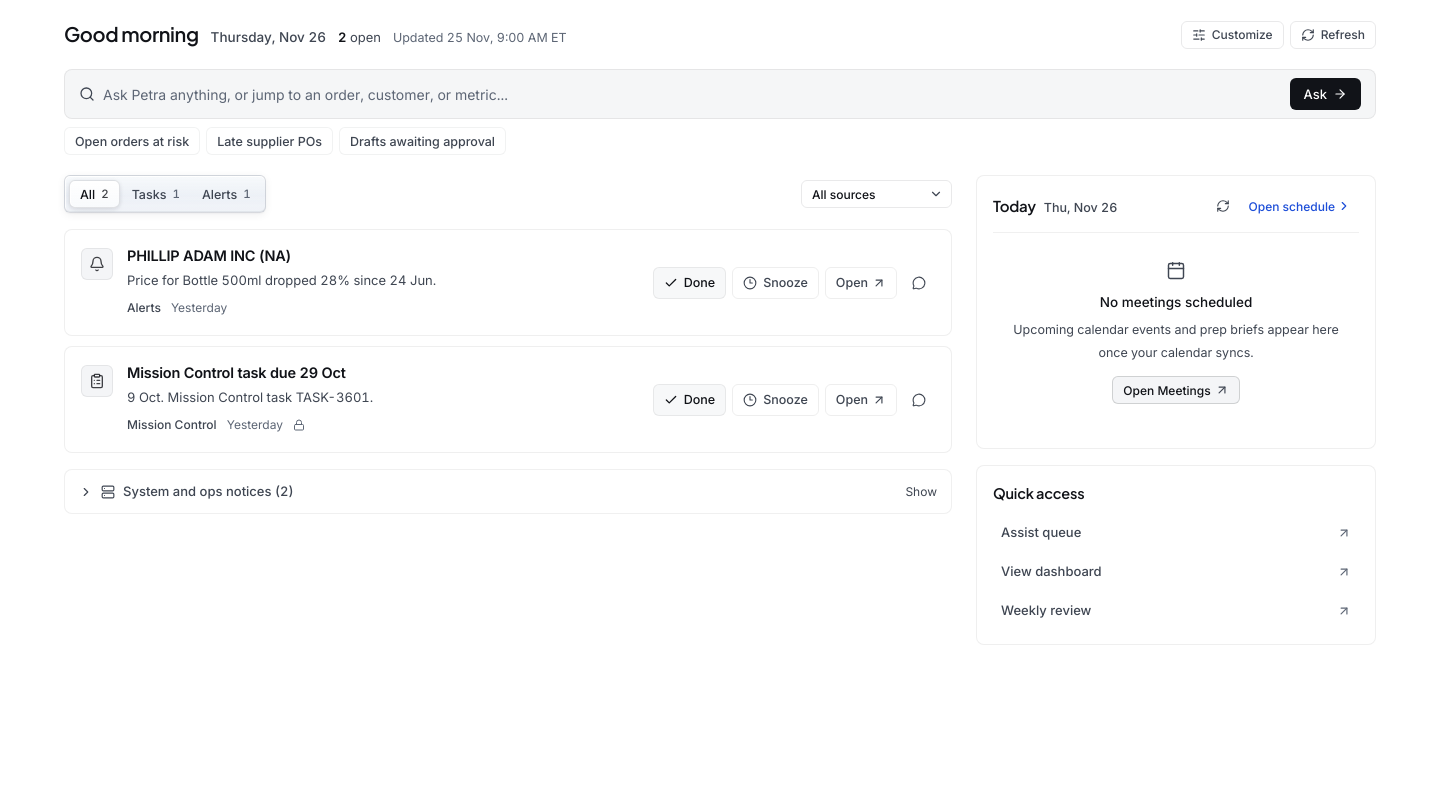
Test: Error and empty states › formats Mission Control label, human dates, quiet private lock indicator, ops grouping, and alert next steps cleanly
This screenshot has width=1440, height=810.
Click the button with test id "ops-notices-toggle" at (202,491), box left=65, top=470, right=951, bottom=513
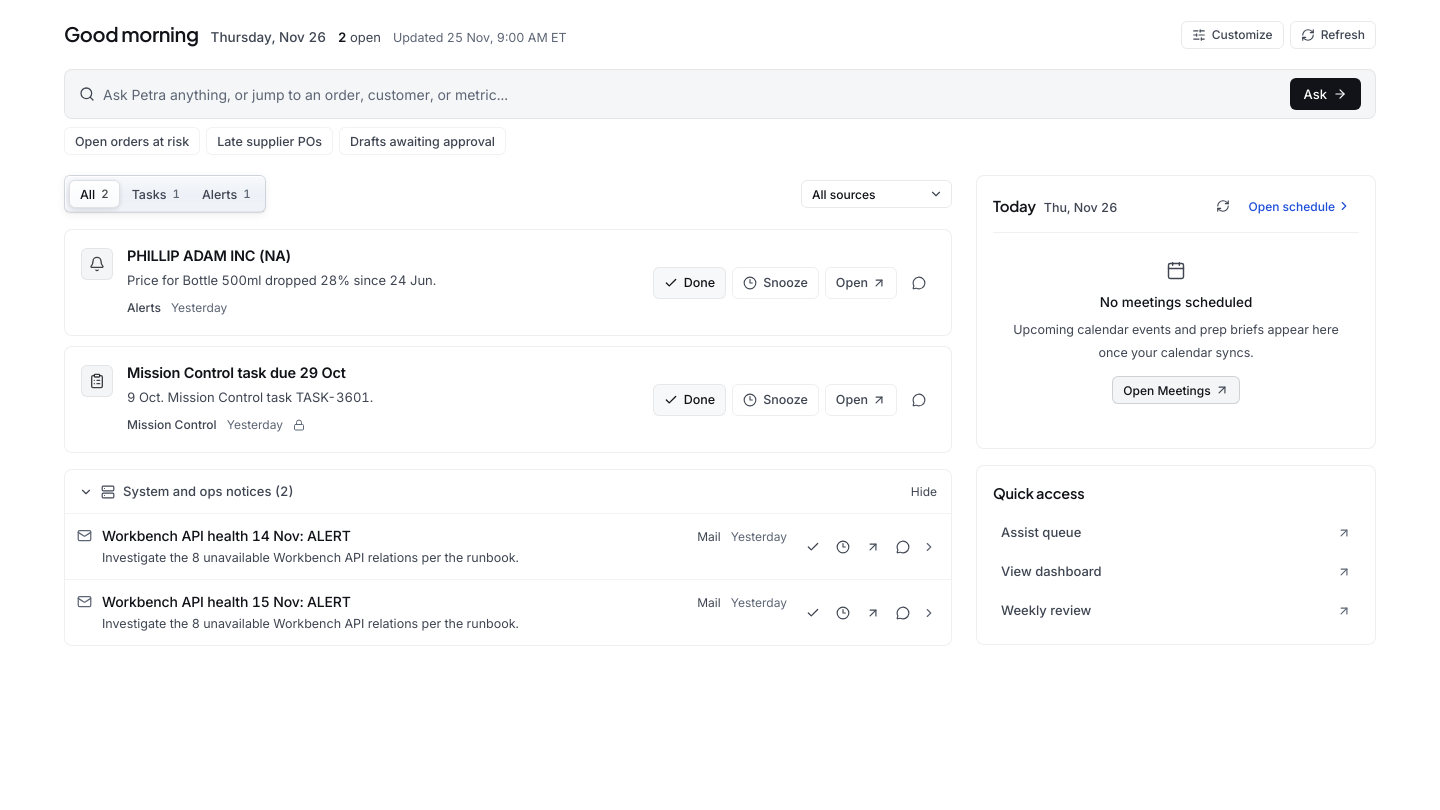
Click the link with test id "need-row" that starts with "PHILLIP ADAM INC (NA)" at (259,281), box left=81, top=247, right=436, bottom=315
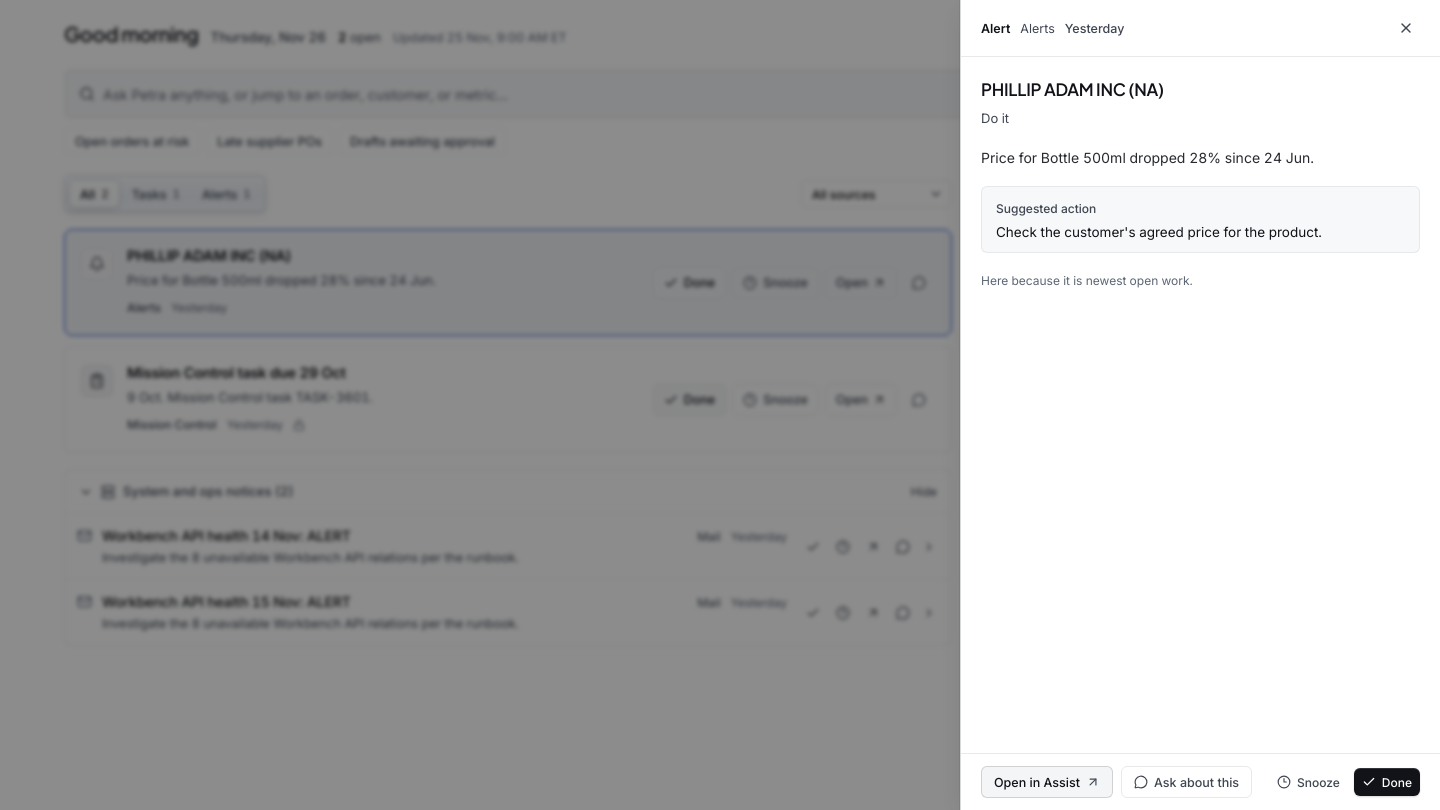
Expected: the element with test id "need-next-step" shows "Check the customer's agreed price for the product.", left=996, top=224, right=1322, bottom=240
